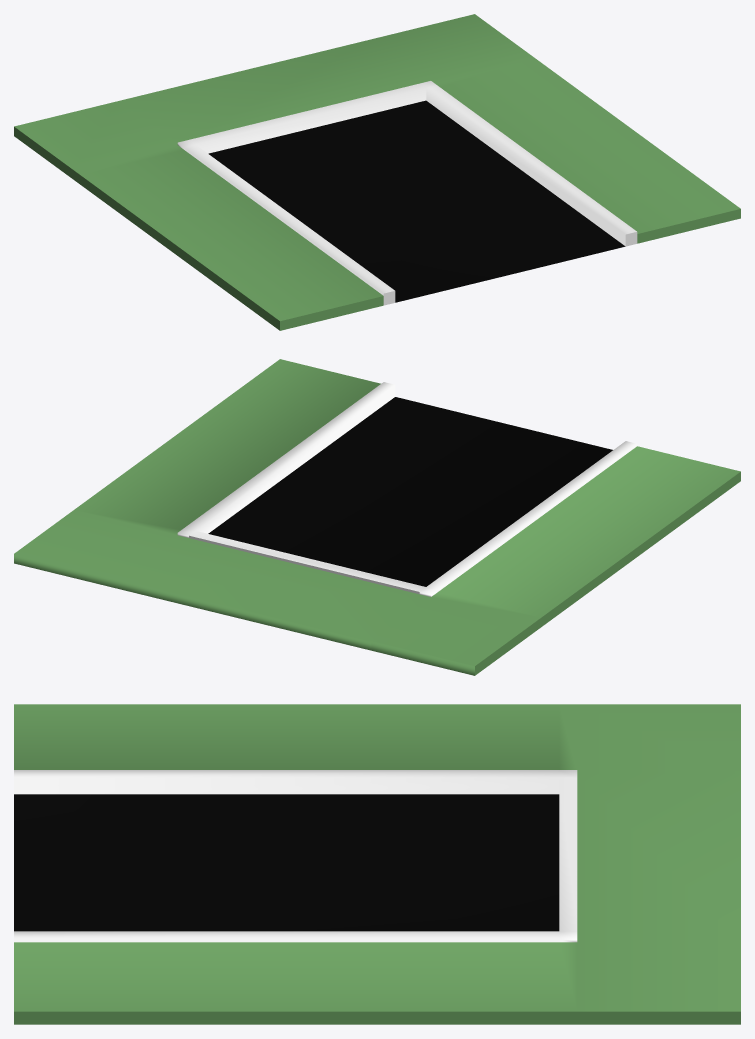
File: End.glb
The picture shows the model from 3 angles, top to bottom: view 1: azimuth 30°, elevation 25°; view 2: azimuth 150°, elevation 25°; view 3: azimuth 270°, elevation 25°; orthographic projection. The views are drawn at different scales.
Parts seen in each view (by area): view 1: End; view 2: End; view 3: End.
Part boxes in pixels (box(x1,y1,x2,y2)): End: box(14, 14, 740, 330); End: box(14, 359, 740, 675); End: box(14, 704, 740, 1024).
Bounding box in the file's own units: 10 × 0.25 × 10.
Materials: 1 (1 with a texture image).
